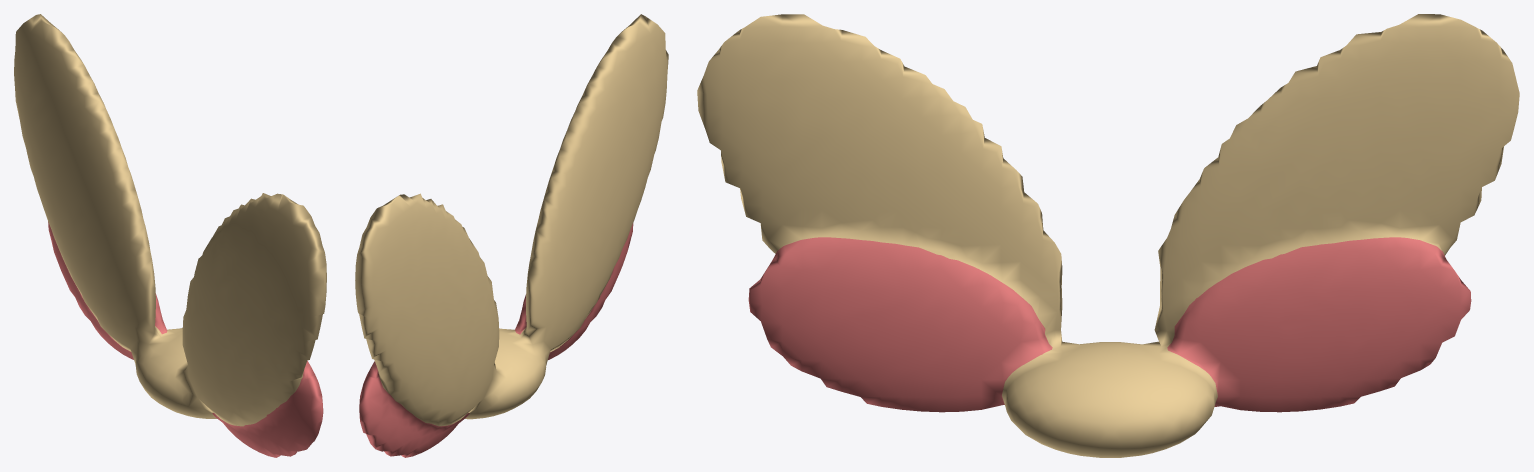
Rendered from acc_wings.glb.
3 views of the same model, side by side, from view 1: azimuth 30°, elevation 25°; view 2: azimuth 150°, elevation 25°; view 3: azimuth 270°, elevation 25° (orthographic). The views are drawn at different scales.
Visible parts, largest first — view 1: body; view 2: body; view 3: body.
Boxes of the visible parts, x1=… form: body: x1=14, y1=14, x2=326, y2=457; body: x1=355, y1=14, x2=668, y2=457; body: x1=697, y1=14, x2=1519, y2=457.
Bounding box in the file's own units: 0.2185 × 0.5486 × 1.01.
